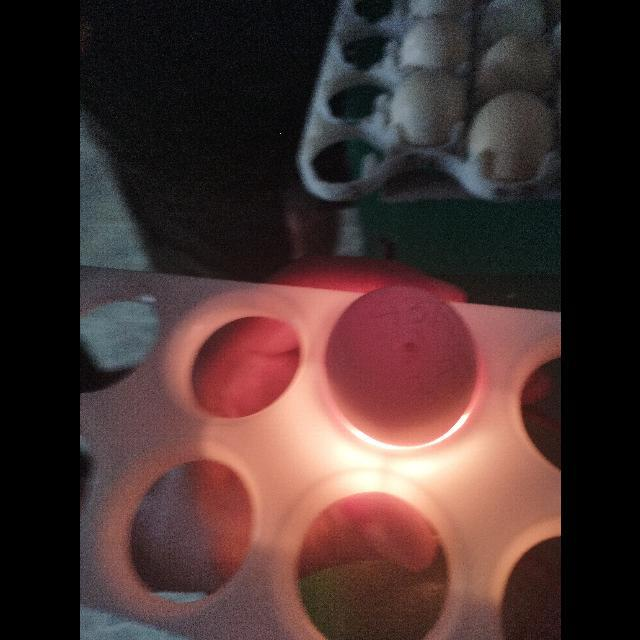Fertile: (323, 283, 481, 452)
